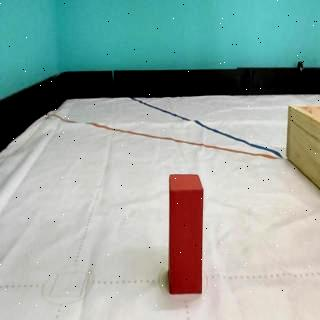redbox: (168, 174, 202, 294)
